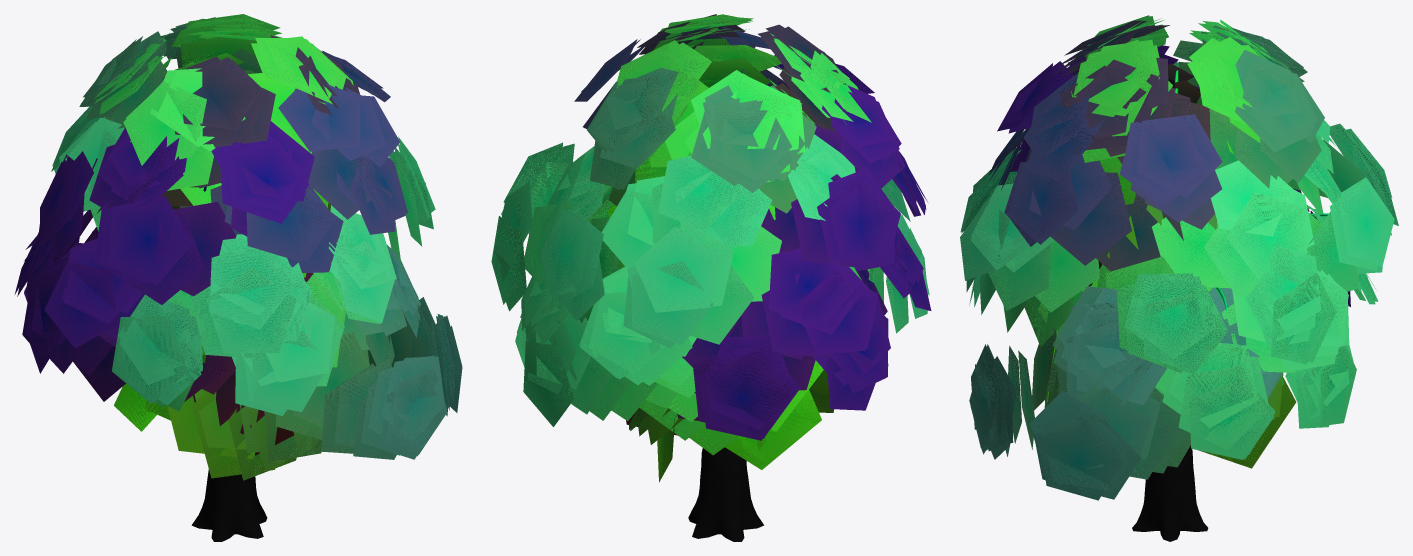
The model's file is Tree_Small.glb.
3 views of the same model, side by side, from view 1: azimuth 30°, elevation 25°; view 2: azimuth 150°, elevation 25°; view 3: azimuth 270°, elevation 25° (orthographic).
Visible parts, largest first — view 1: tree; view 2: tree; view 3: tree.
Part boxes in pixels (bbox=[...]): tree: bbox=[14, 14, 462, 541]; tree: bbox=[491, 14, 931, 541]; tree: bbox=[960, 15, 1398, 541].
Size of the model in its own units: 2.49 by 3.02 by 2.44.
Materials: 2 (1 with a texture image).
